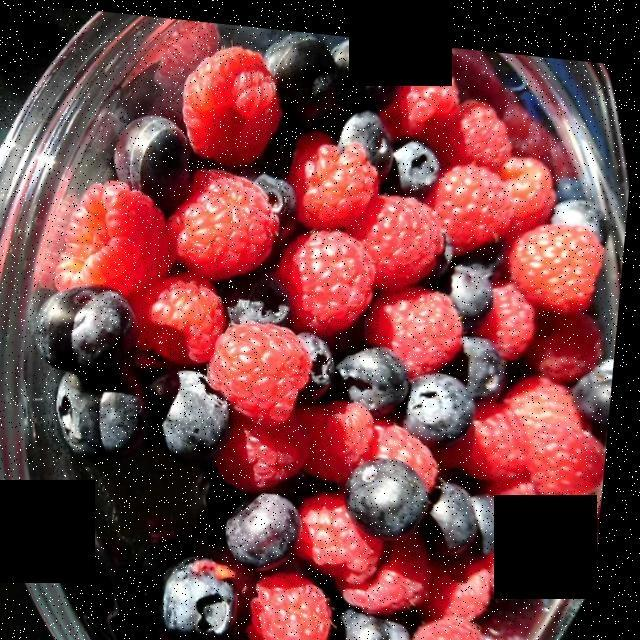berries: (59, 40, 597, 640)
